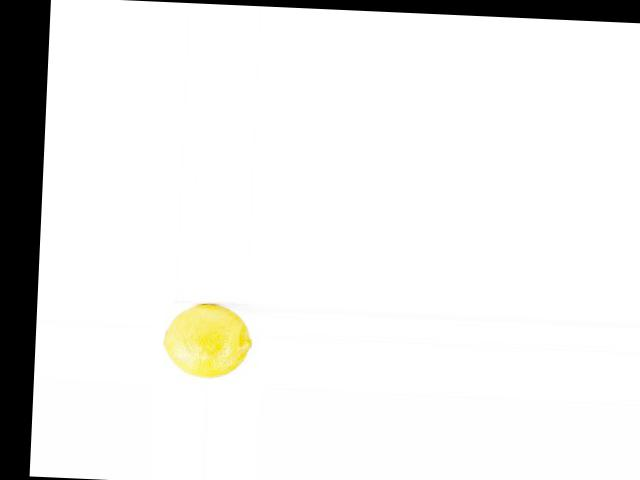lemon: (152, 300, 266, 382)
